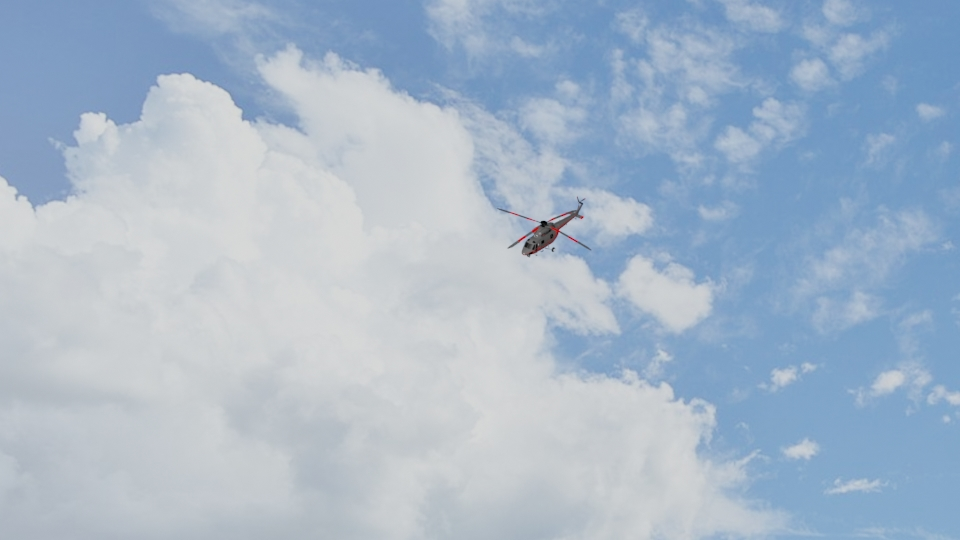heli: (502, 196, 592, 260)
